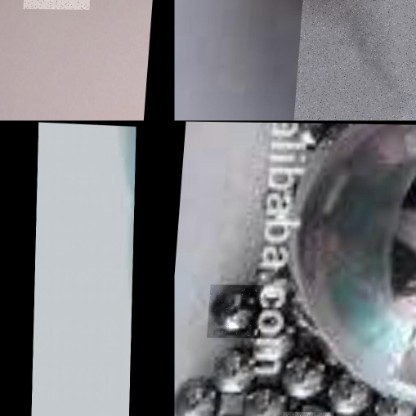ironball: (283, 122, 415, 415), (206, 343, 267, 393), (209, 284, 265, 337), (322, 359, 373, 416), (280, 339, 326, 401), (174, 377, 232, 415), (286, 411, 337, 415)
